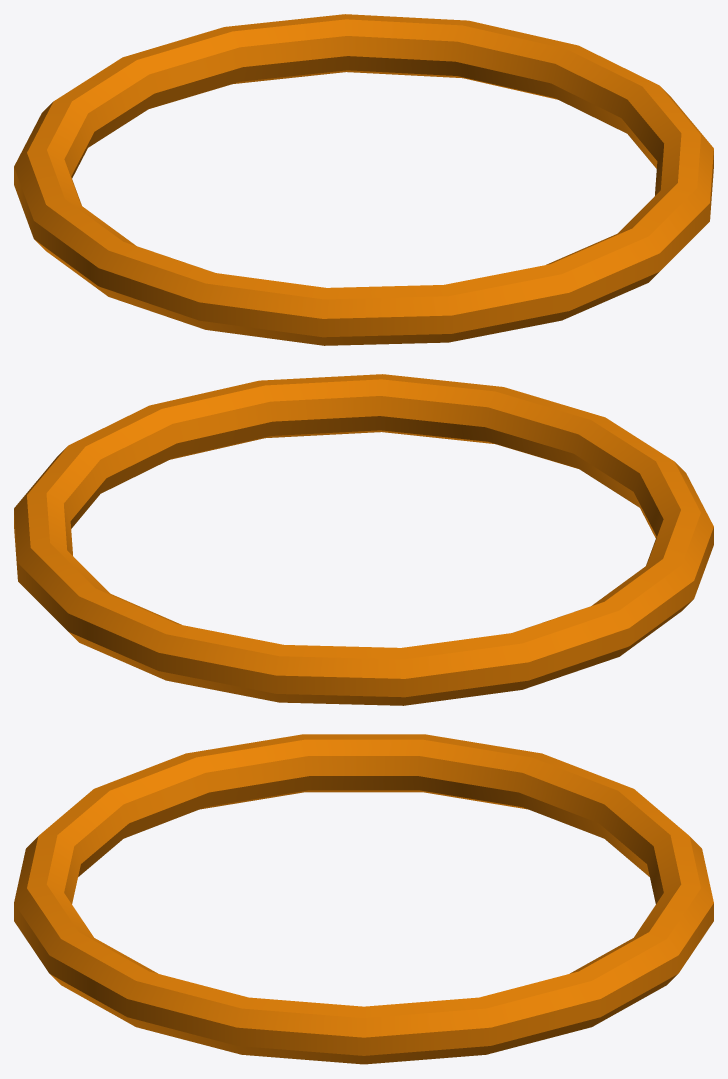
The model's file is Ring.fbx.
3 renders of one model, top to bottom at view 1: azimuth 30°, elevation 25°; view 2: azimuth 150°, elevation 25°; view 3: azimuth 270°, elevation 25°, orthographic.
Visible parts, largest first — view 1: pTorus1; view 2: pTorus1; view 3: pTorus1.
Boxes of the visible parts, left/top/right/bottom form: pTorus1: left=14, top=14, right=713, bottom=345; pTorus1: left=14, top=374, right=713, bottom=705; pTorus1: left=14, top=734, right=713, bottom=1064.
Bounding box in the file's own units: 11.82 × 0.9848 × 11.87.
